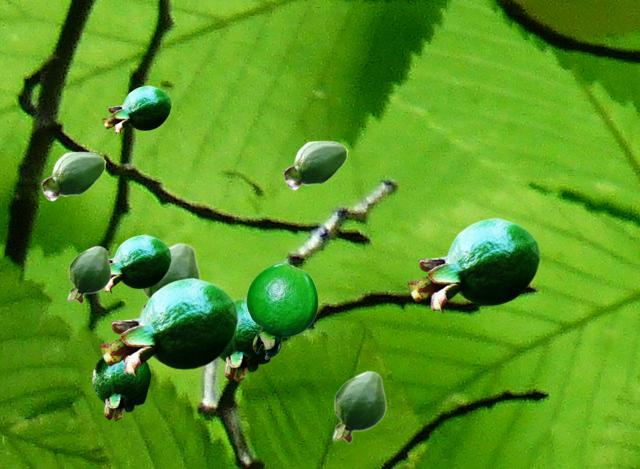guava: (99, 277, 237, 376), (407, 217, 539, 312), (246, 262, 317, 358), (139, 242, 199, 316), (219, 299, 270, 381), (103, 234, 170, 292), (332, 370, 385, 443), (92, 356, 150, 420), (102, 85, 170, 133), (283, 140, 347, 189), (41, 151, 105, 200), (67, 245, 110, 303)
